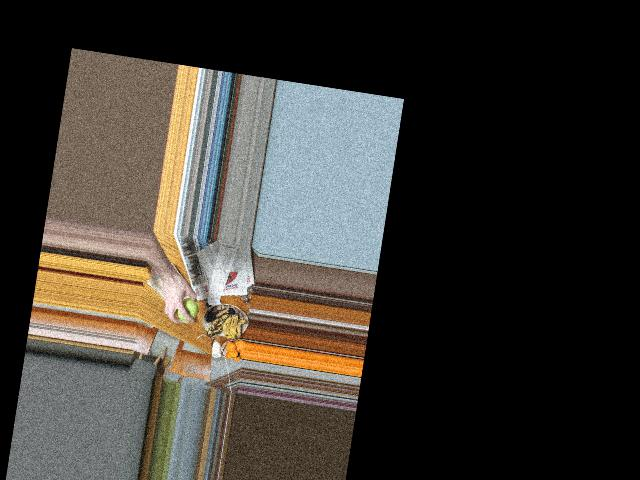apple: (174, 295, 199, 324)
